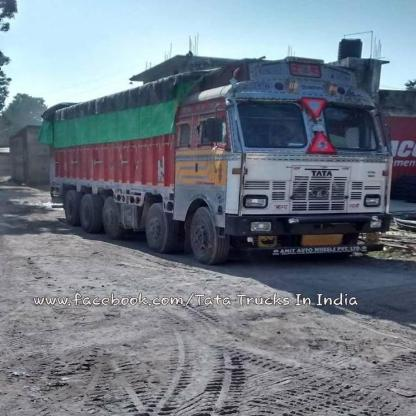truck: (41, 72, 390, 256)
